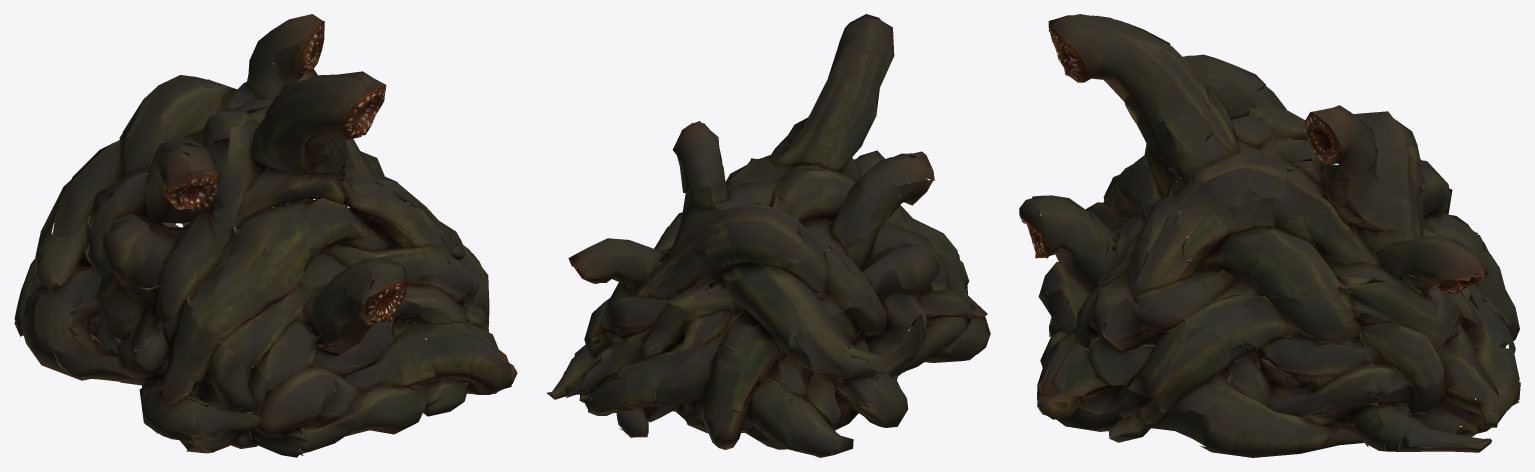
The model's file is LeechSwarm.fbx.
3 renders of one model, left to right at view 1: azimuth 30°, elevation 25°; view 2: azimuth 150°, elevation 25°; view 3: azimuth 270°, elevation 25°, orthographic. The views are drawn at different scales.
Visible parts, largest first — view 1: LeechSwarm_Body; view 2: LeechSwarm_Body; view 3: LeechSwarm_Body.
Boxes of the visible parts, x1,y1,x2,y2 form: LeechSwarm_Body: (14,14,517,457); LeechSwarm_Body: (547,14,990,457); LeechSwarm_Body: (1019,14,1520,457).
Size of the model in its own units: 0.9854 by 0.9 by 1.14.
1 material, 1 textured.
